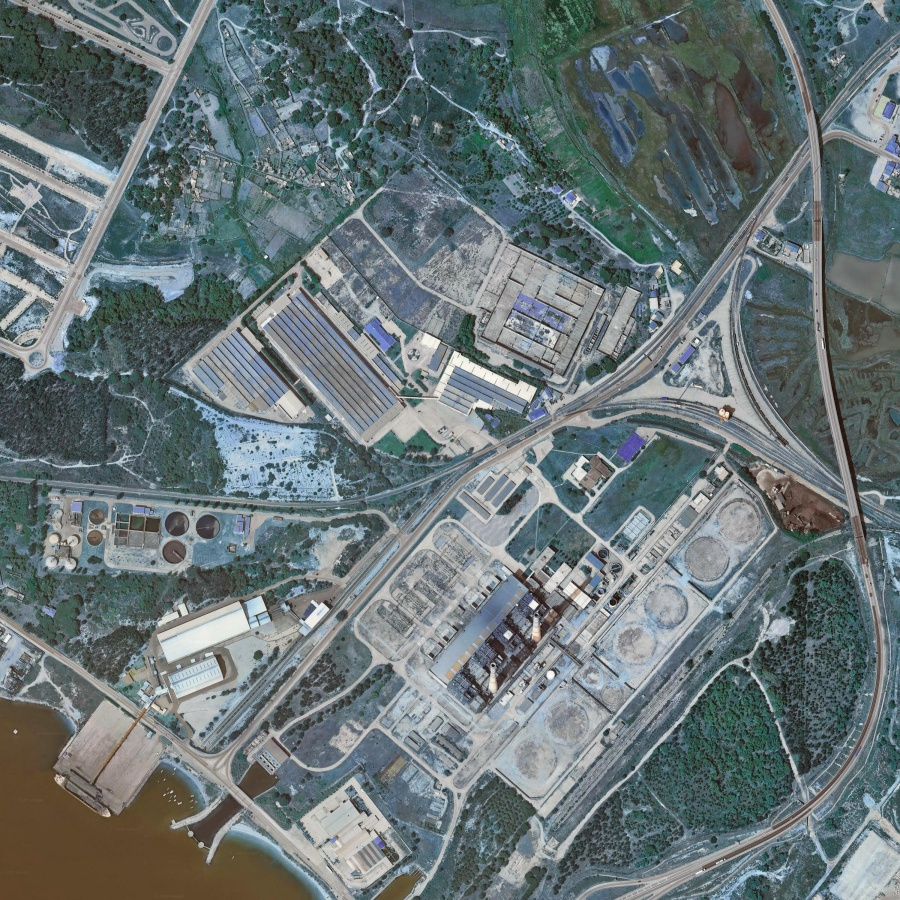PowerPlant: (389, 446, 764, 786)
